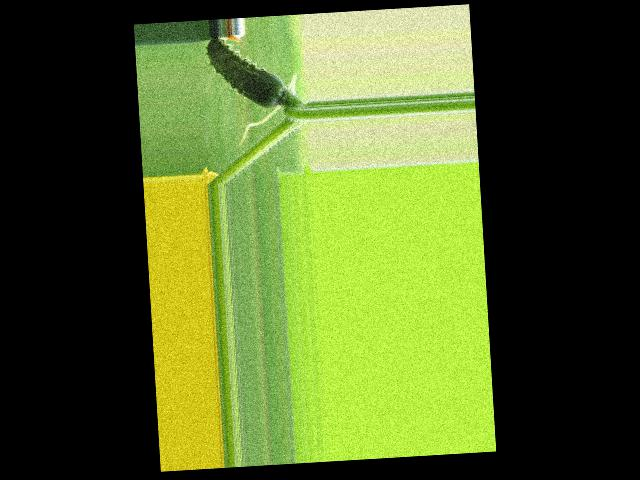cucumber: (205, 34, 284, 112)
